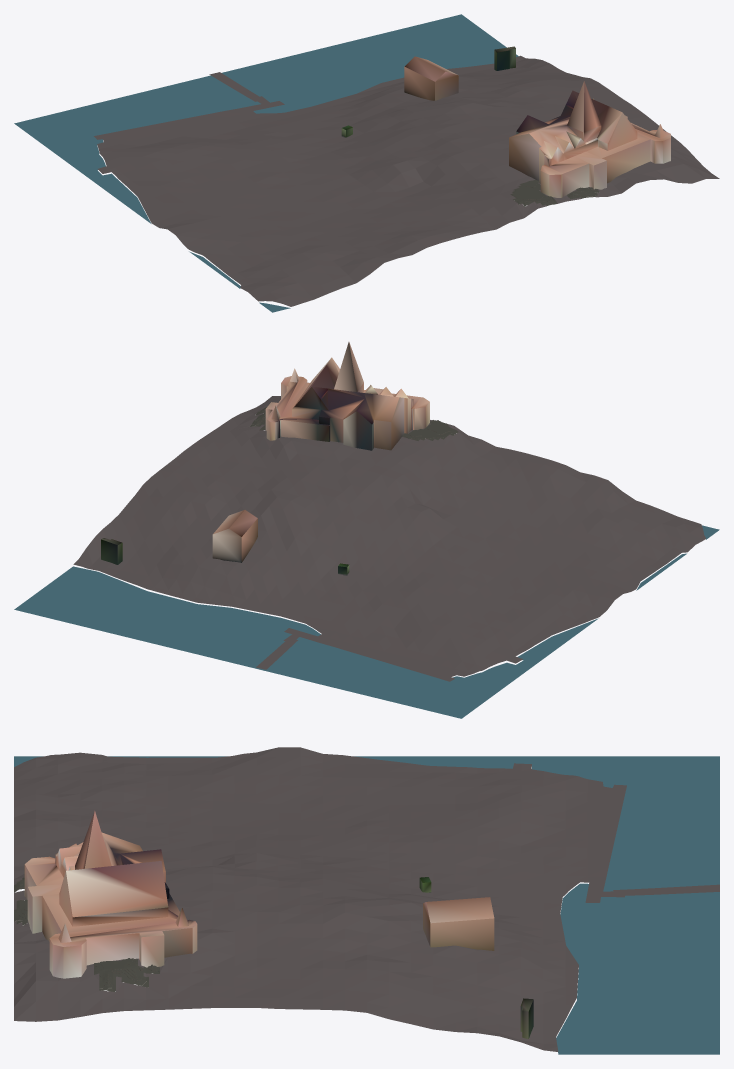
3 views of the same model, one above another, from view 1: azimuth 30°, elevation 25°; view 2: azimuth 150°, elevation 25°; view 3: azimuth 270°, elevation 25° (orthographic). The views are drawn at different scales.
Visible parts, largest first — view 1: c_p05_p08; view 2: c_p05_p08; view 3: c_p05_p08.
Part boxes in pixels (bbox=[...]): c_p05_p08: bbox=[14, 14, 719, 312]; c_p05_p08: bbox=[14, 342, 719, 718]; c_p05_p08: bbox=[14, 747, 719, 1054].
Size of the model in its own units: 128 by 34.72 by 128.
